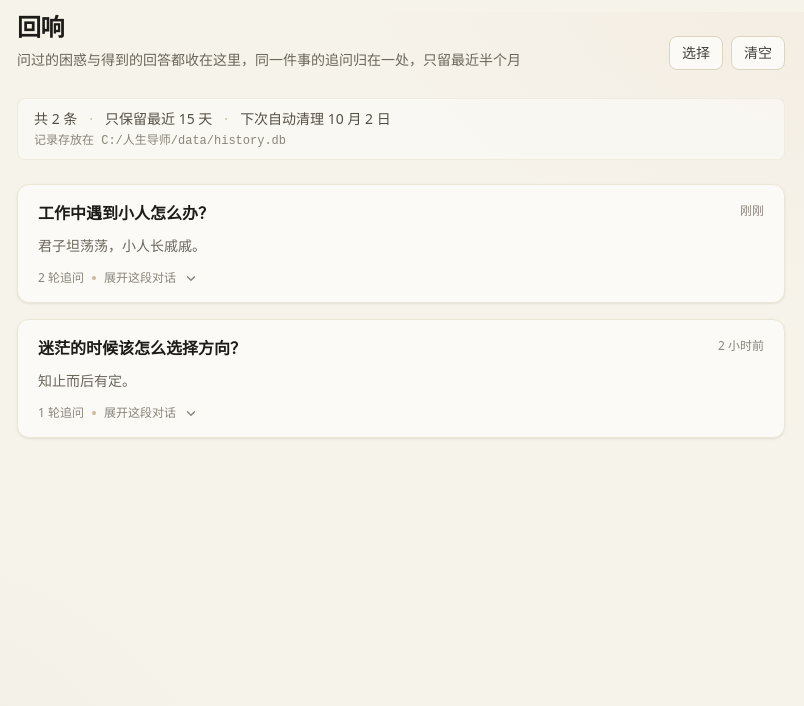
Test case: 回响的勾选删除 › 也能只勾其中一条问答
Step 1. Click the button "选择" → (696, 53), box [669,36,723,70]
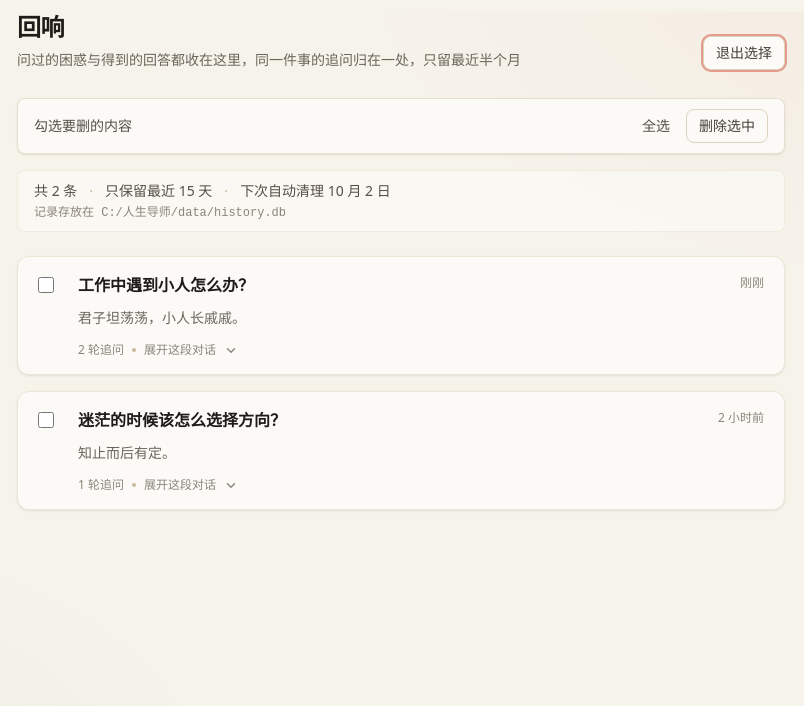
Step 2. Click the button "工作中遇到小人怎么办？ 刚刚 君子坦荡荡，小人长戚戚。 2 轮追问 展开这段对话" → (166, 286), box [58,257,784,374]
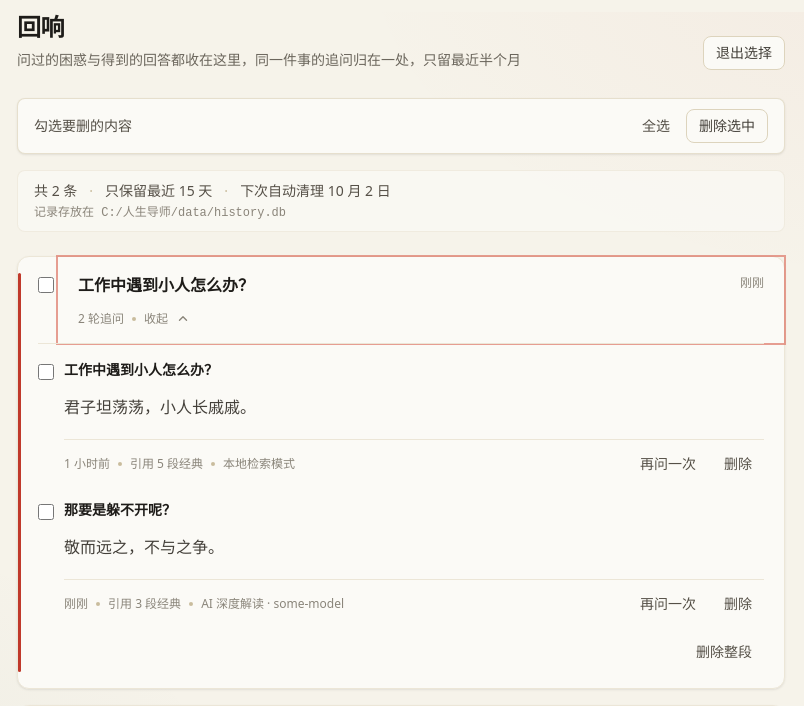
Expected: the text "引用 5 段经典" is shown, [130,455,203,472]
Step 3. Click the checkbox named "那要是躲不开呢" → (46, 512), box [38,504,54,520]
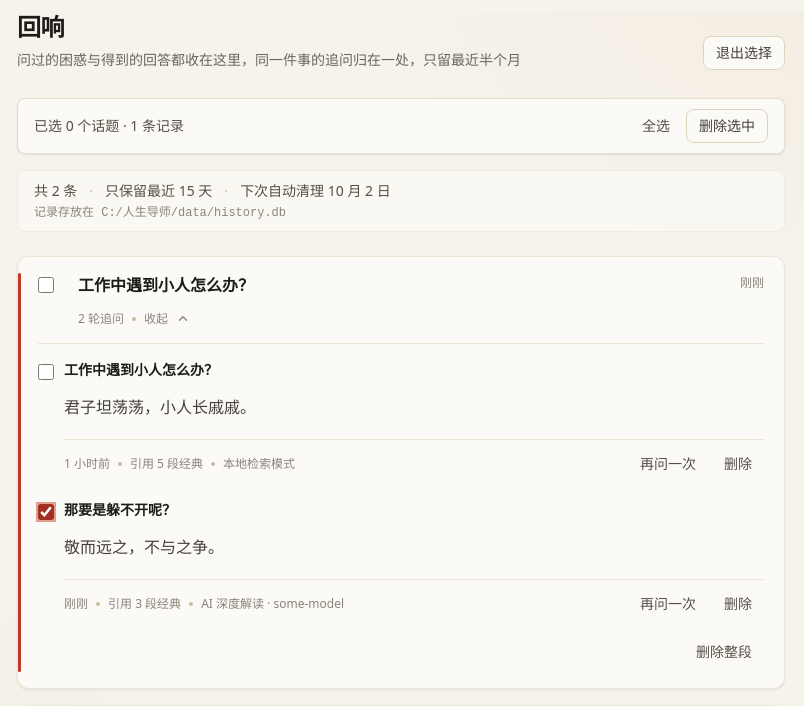
Expected: the text "已选 0 个话题 · 1 条记录" is shown, [34,116,184,135]
